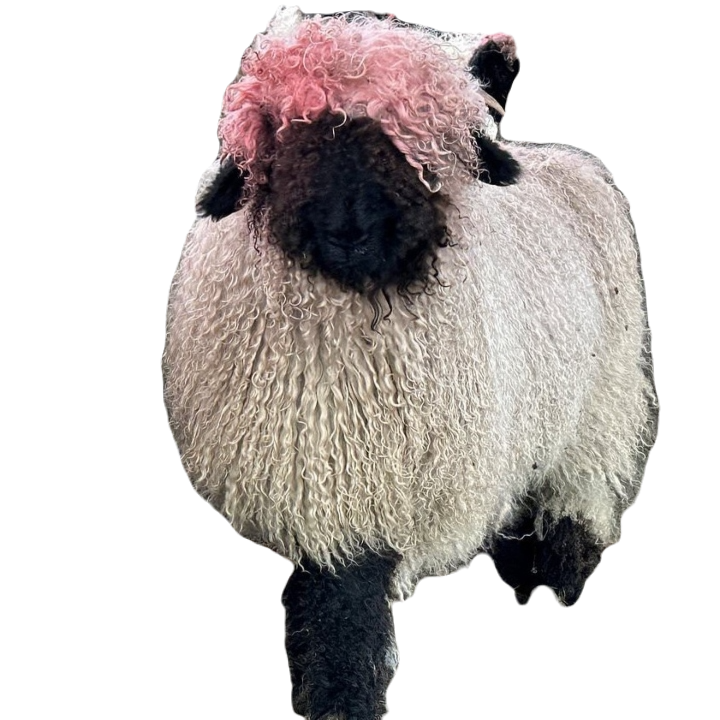Sheep: (154, 0, 664, 720)
